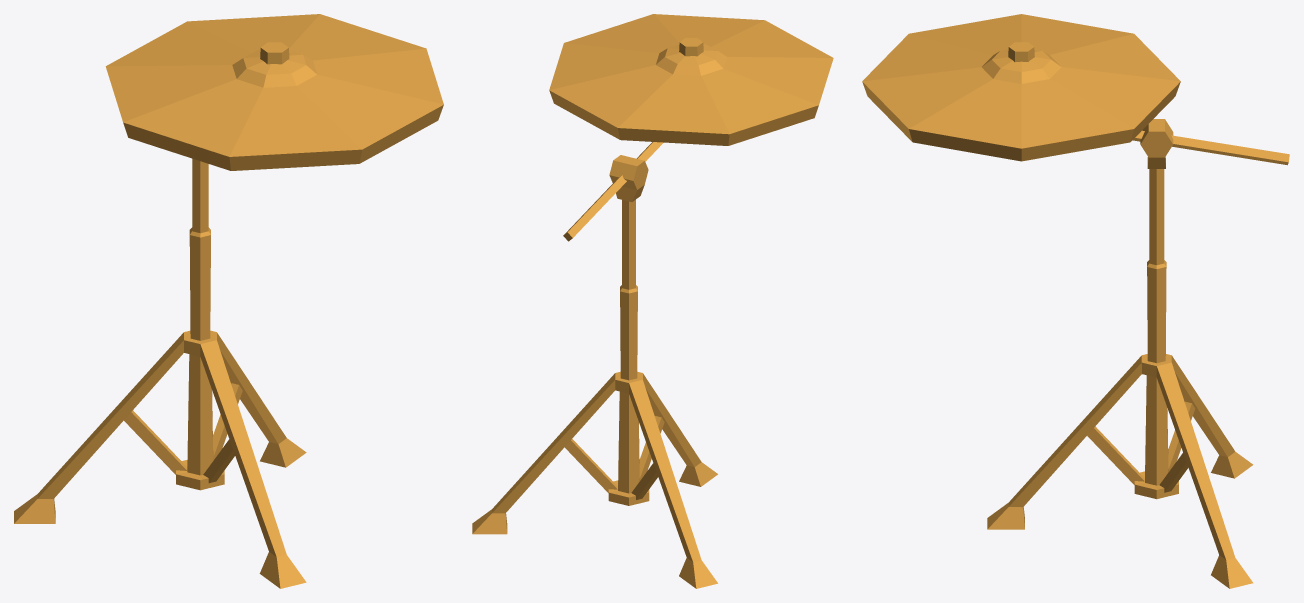
File: drum-cymbal.fbx
The picture shows the model from 3 angles, left to right: view 1: azimuth 30°, elevation 25°; view 2: azimuth 150°, elevation 25°; view 3: azimuth 270°, elevation 25°; orthographic projection. The views are drawn at different scales.
Parts seen in each view (by area): view 1: drum-cymbal; view 2: drum-cymbal; view 3: drum-cymbal.
Boxes of the visible parts, x1,y1,x2,y2 form: drum-cymbal: [14, 14, 443, 588]; drum-cymbal: [472, 14, 833, 588]; drum-cymbal: [862, 14, 1289, 588].
Size of the model in its own units: 0.6 by 0.9909 by 0.8051.
